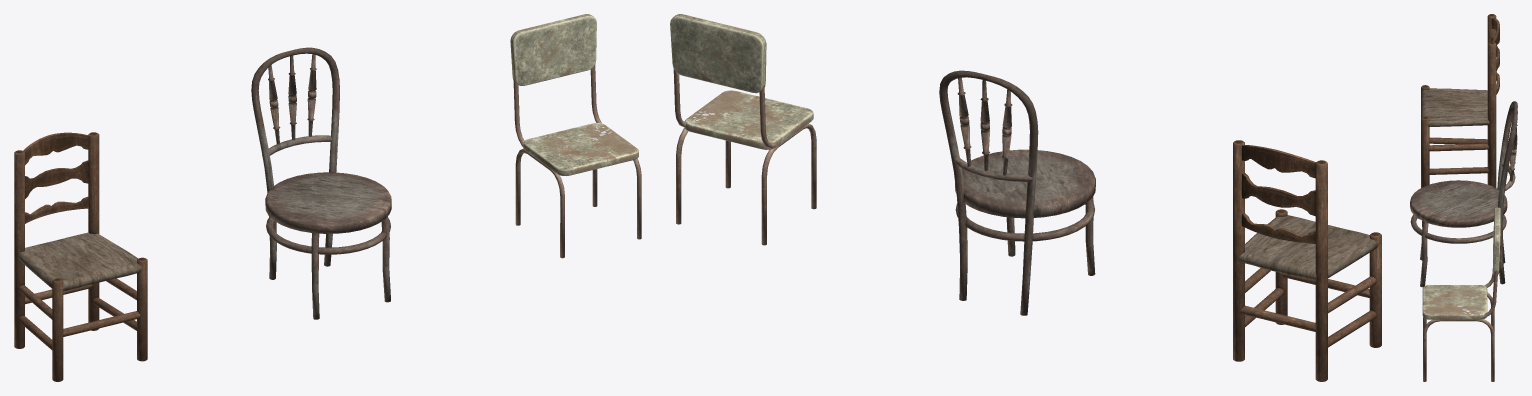
Rendered from ChairPack.obj.
3 renders of one model, left to right at view 1: azimuth 30°, elevation 25°; view 2: azimuth 150°, elevation 25°; view 3: azimuth 270°, elevation 25°, orthographic. The views are drawn at different scales.
Parts seen in each view (by area): view 1: Cylinder.006_Cylinder, Cylinder_Cylinder.001, Cube.005_Cube.002, Cylinder.003_Cylinder.004, BezierCurve, Cube.003_Cube.001, Cube.002_Cube.003, Cylinder.001_Cylinder.002, Cube_Cube.005, Torus, Cylinder.008_Cylinder.009, Cube.004_Cube.006 (+1 smaller); view 2: Cylinder_Cylinder.001, Cylinder.006_Cylinder, Cube.005_Cube.002, BezierCurve, Cube.003_Cube.001, Cylinder.003_Cylinder.004, Cube.002_Cube.003, Cylinder.001_Cylinder.002, Cube_Cube.005, Cylinder.008_Cylinder.009, Torus, Cube.004_Cube.006 (+2 smaller); view 3: Cylinder.006_Cylinder, Cylinder.003_Cylinder.004, Cylinder_Cylinder.001, Cube.003_Cube.001, BezierCurve, Cylinder.001_Cylinder.002, Cube_Cube.005, Torus, Cube.005_Cube.002, Cube.002_Cube.003, Cube.004_Cube.006, Cylinder.008_Cylinder.009 (+1 smaller).
Boxes of the visible parts, x1,y1,x2,y2 form: Cylinder.006_Cylinder: (265, 172, 391, 233); Cylinder_Cylinder.001: (14, 132, 147, 381); Cube.005_Cube.002: (510, 14, 596, 85); Cylinder.003_Cylinder.004: (17, 232, 142, 291); BezierCurve: (251, 47, 390, 319); Cube.003_Cube.001: (523, 123, 638, 175); Cube.002_Cube.003: (23, 132, 88, 223); Cylinder.001_Cylinder.002: (18, 278, 140, 349); Cube_Cube.005: (515, 148, 641, 258); Torus: (266, 217, 390, 254); Cylinder.008_Cylinder.009: (268, 54, 316, 144); Cube.004_Cube.006: (513, 64, 601, 148); Cylinder_Cylinder.001: (1233, 140, 1381, 381); Cylinder.006_Cylinder: (955, 149, 1095, 218); Cube.005_Cube.002: (670, 14, 766, 93); BezierCurve: (939, 70, 1095, 315); Cube.003_Cube.001: (684, 90, 813, 149); Cylinder.003_Cylinder.004: (1238, 215, 1378, 280); Cube.002_Cube.003: (1242, 145, 1315, 243); Cylinder.001_Cylinder.002: (1240, 268, 1376, 347); Cube_Cube.005: (676, 123, 816, 245); Cylinder.008_Cylinder.009: (957, 77, 1012, 175); Torus: (955, 199, 1094, 241); Cube.004_Cube.006: (673, 69, 775, 148); Cylinder.006_Cylinder: (1410, 180, 1507, 227); Cylinder.003_Cylinder.004: (1421, 88, 1489, 126); Cylinder_Cylinder.001: (1421, 14, 1496, 187); Cube.003_Cube.001: (1422, 285, 1487, 319); BezierCurve: (1420, 101, 1517, 287); Cylinder.001_Cylinder.002: (1428, 137, 1488, 174); Cube_Cube.005: (1423, 292, 1494, 381); Torus: (1410, 215, 1506, 243); Cube.005_Cube.002: (1493, 207, 1500, 274); Cube.002_Cube.003: (1491, 18, 1499, 94); Cube.004_Cube.006: (1480, 268, 1497, 318); Cylinder.008_Cylinder.009: (1509, 109, 1517, 181).
Size of the model in its own units: 4.71 by 1.64 by 0.9702.
3 materials, 3 textured.
